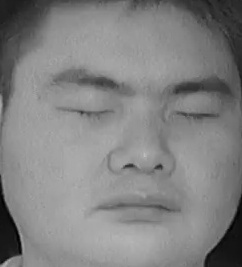blink: (59, 91, 113, 128), (171, 97, 217, 133)
mouth: (90, 183, 180, 230)
